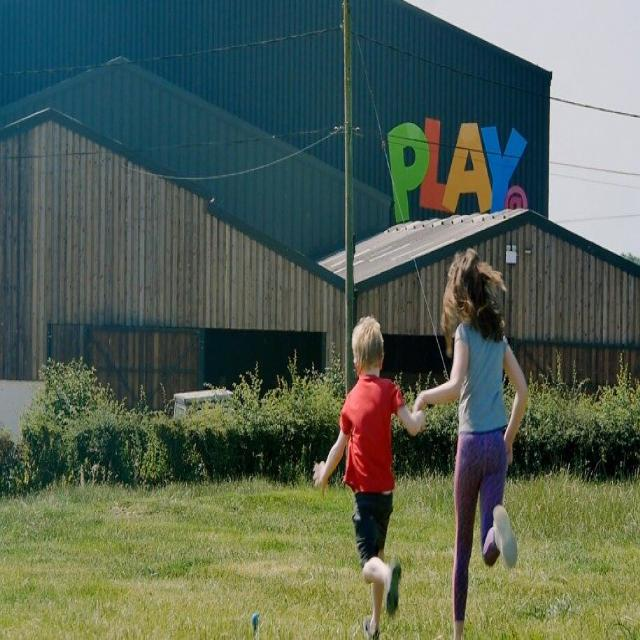Person: (414, 250, 527, 640), (314, 313, 422, 640)
